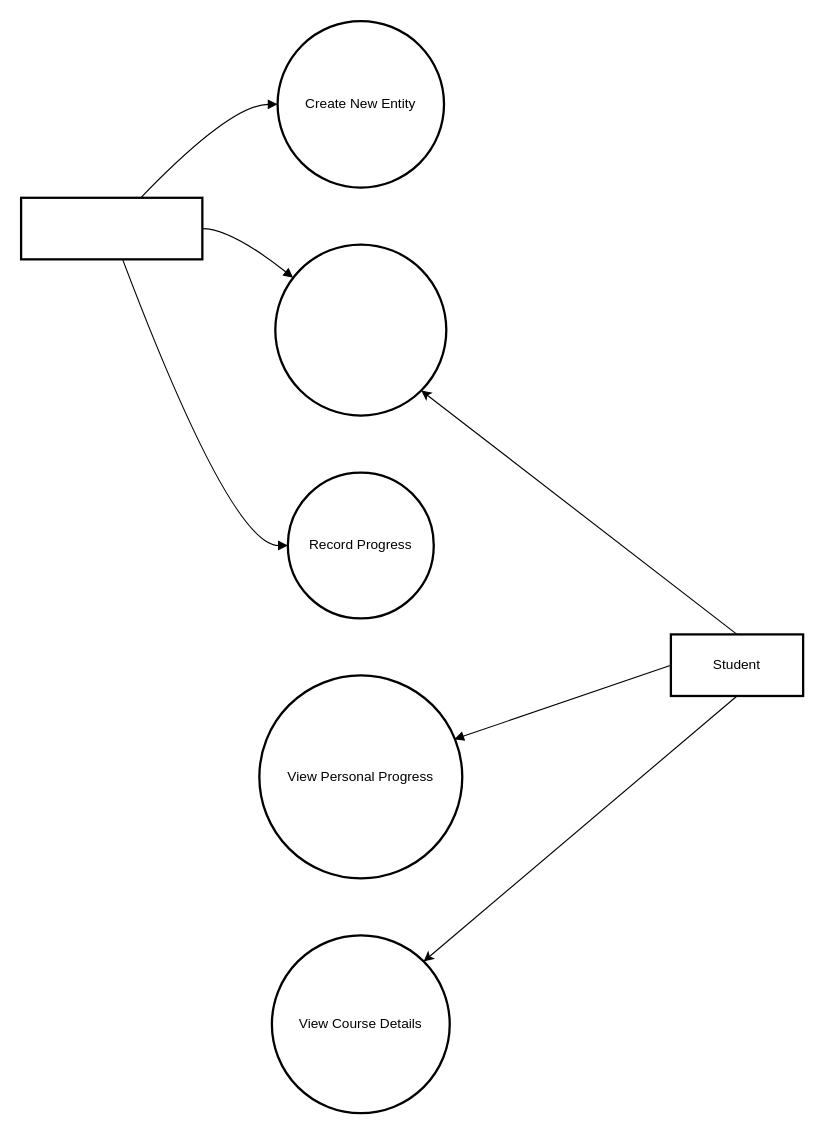
Image size: 823x1133. Some labels were removed from this diagram. Here are the shapes that lost their labels. From the top down, the centre of each, then its label:
At [111,228]: "System Admin".
At [360,329]: "View Entity Details".
